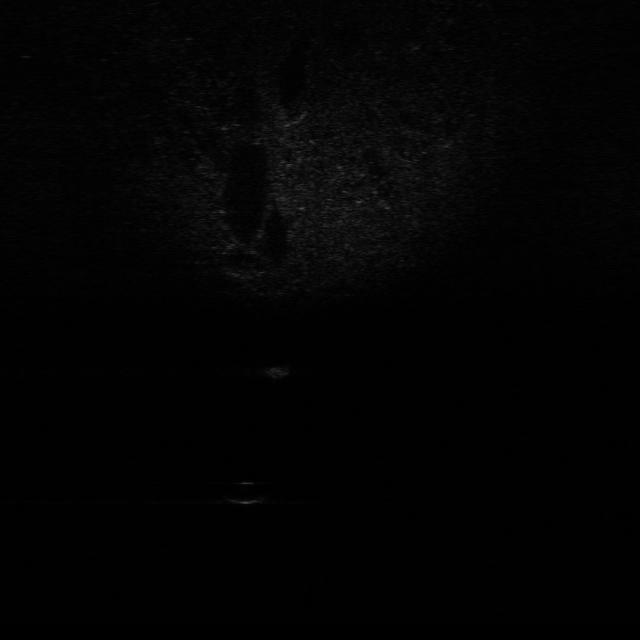ball: (223, 476, 273, 509)
cube: (258, 360, 294, 382)
